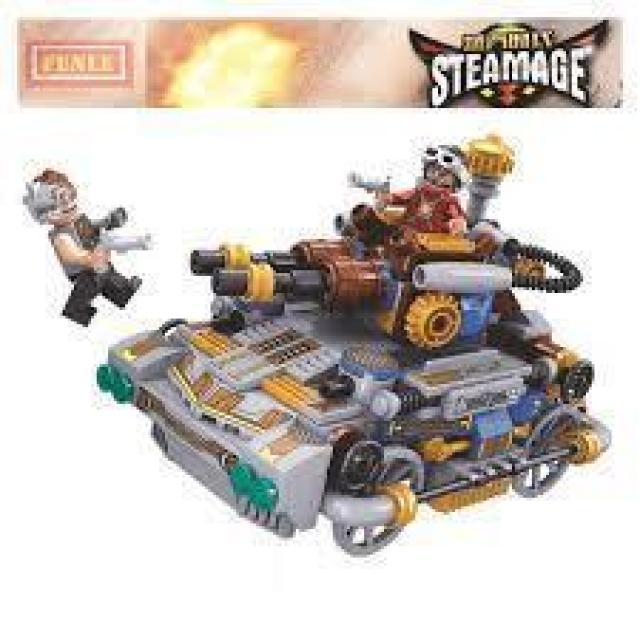Tanks: (75, 110, 576, 604)
